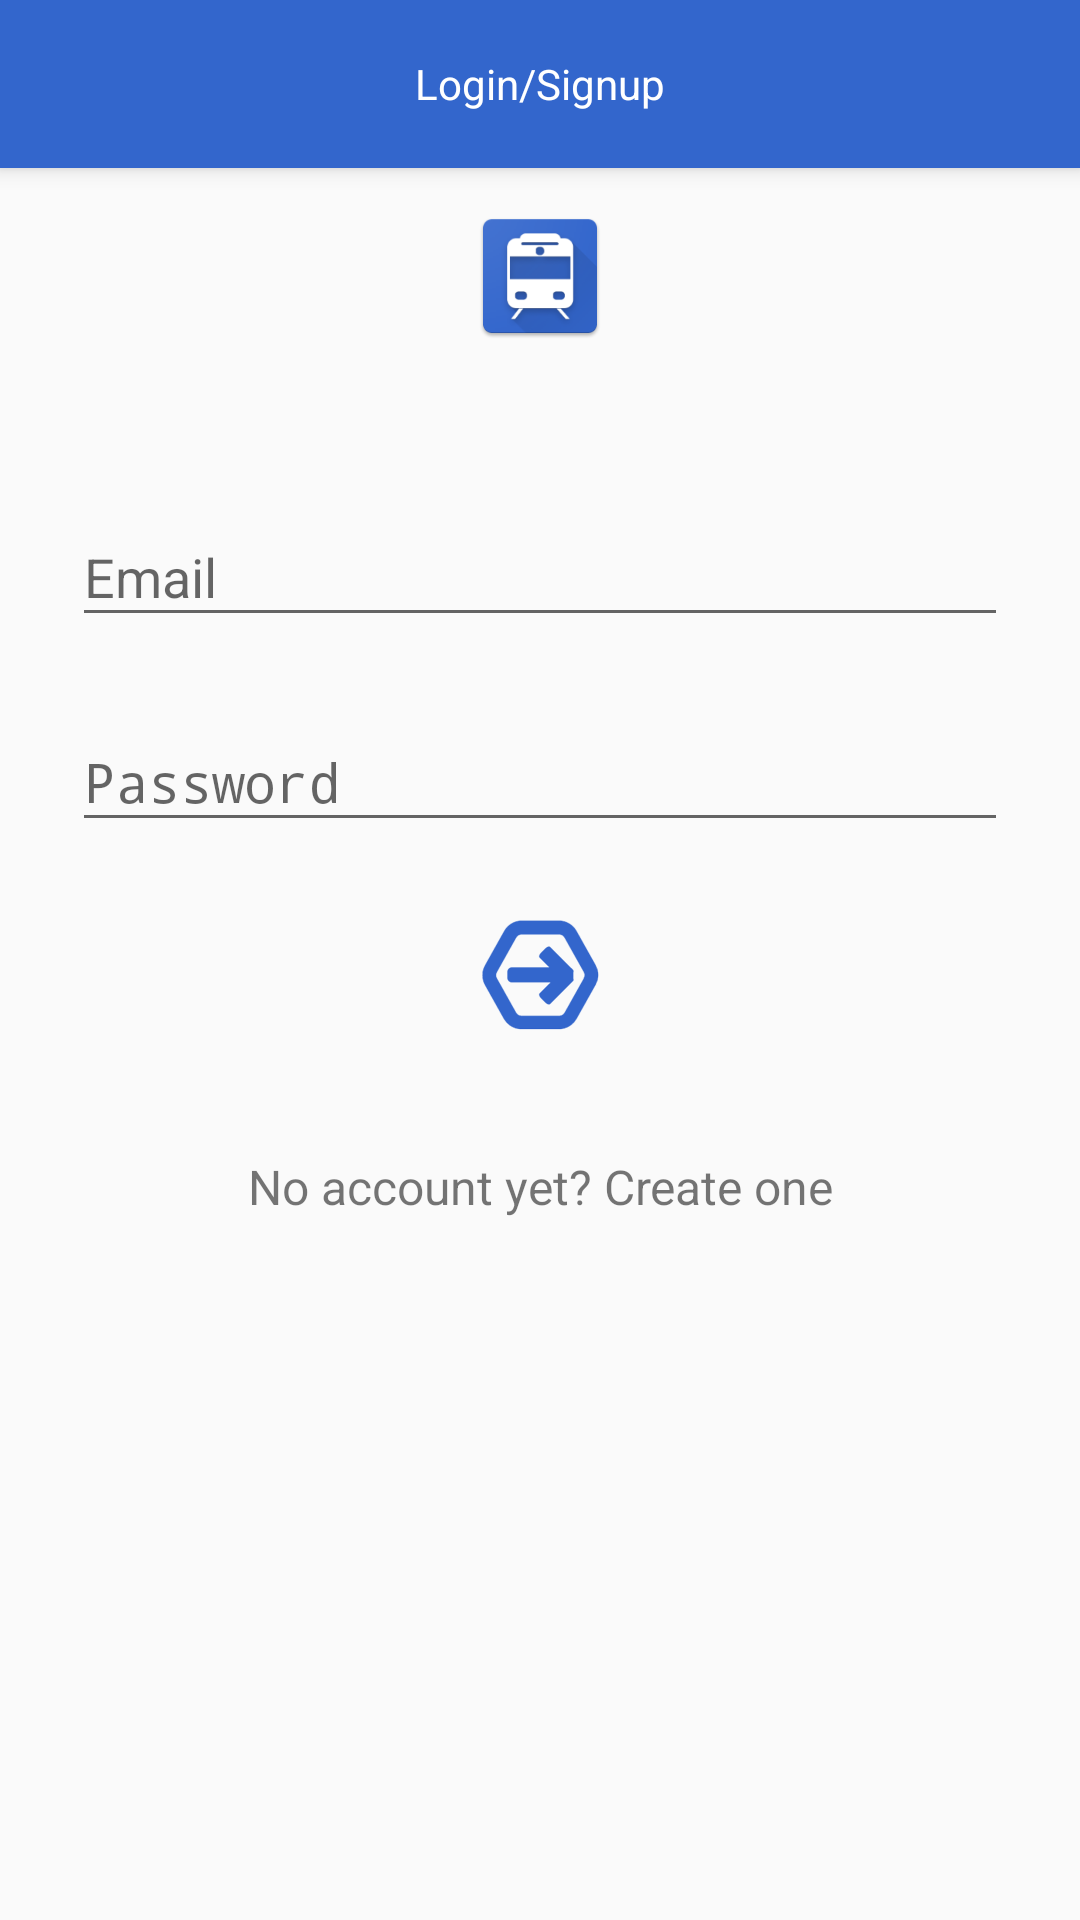

Named icons in this screenshot (1080*1920) and their centers, (x=x, y=y):
login: (x=540, y=975)
